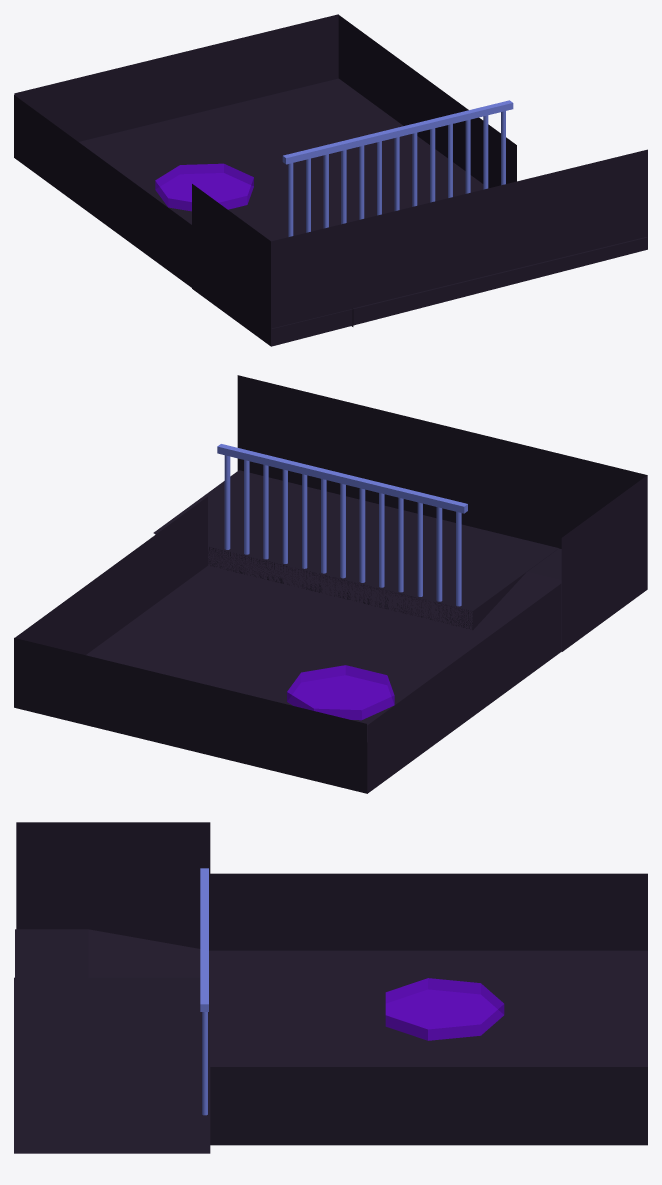
File: weird.fbx
3 views of the same model, one above another, from view 1: azimuth 30°, elevation 25°; view 2: azimuth 150°, elevation 25°; view 3: azimuth 270°, elevation 25° (orthographic). The views are drawn at different scales.
Parts seen in each view (by area): view 1: Plane, Cylinder.001, Cylinder, Cube; view 2: Plane, Cylinder.001, Cylinder, Cube; view 3: Plane, Cylinder, Cube, Cylinder.001.
Part boxes in pixels (left/top/right/bottom): Plane: left=14, top=14, right=647, bottom=346; Cylinder.001: left=288, top=111, right=505, bottom=236; Cylinder: left=155, top=163, right=253, bottom=211; Cube: left=282, top=100, right=513, bottom=164; Plane: left=14, top=375, right=647, bottom=793; Cylinder.001: left=224, top=455, right=461, bottom=606; Cylinder: left=287, top=665, right=394, bottom=720; Cube: left=217, top=444, right=467, bottom=513; Plane: left=14, top=822, right=647, bottom=1153; Cylinder: left=385, top=978, right=504, bottom=1040; Cube: left=200, top=868, right=208, bottom=1011; Cylinder.001: left=202, top=1012, right=207, bottom=1115.
Bounding box in the file's own units: 788 × 223 × 935.
